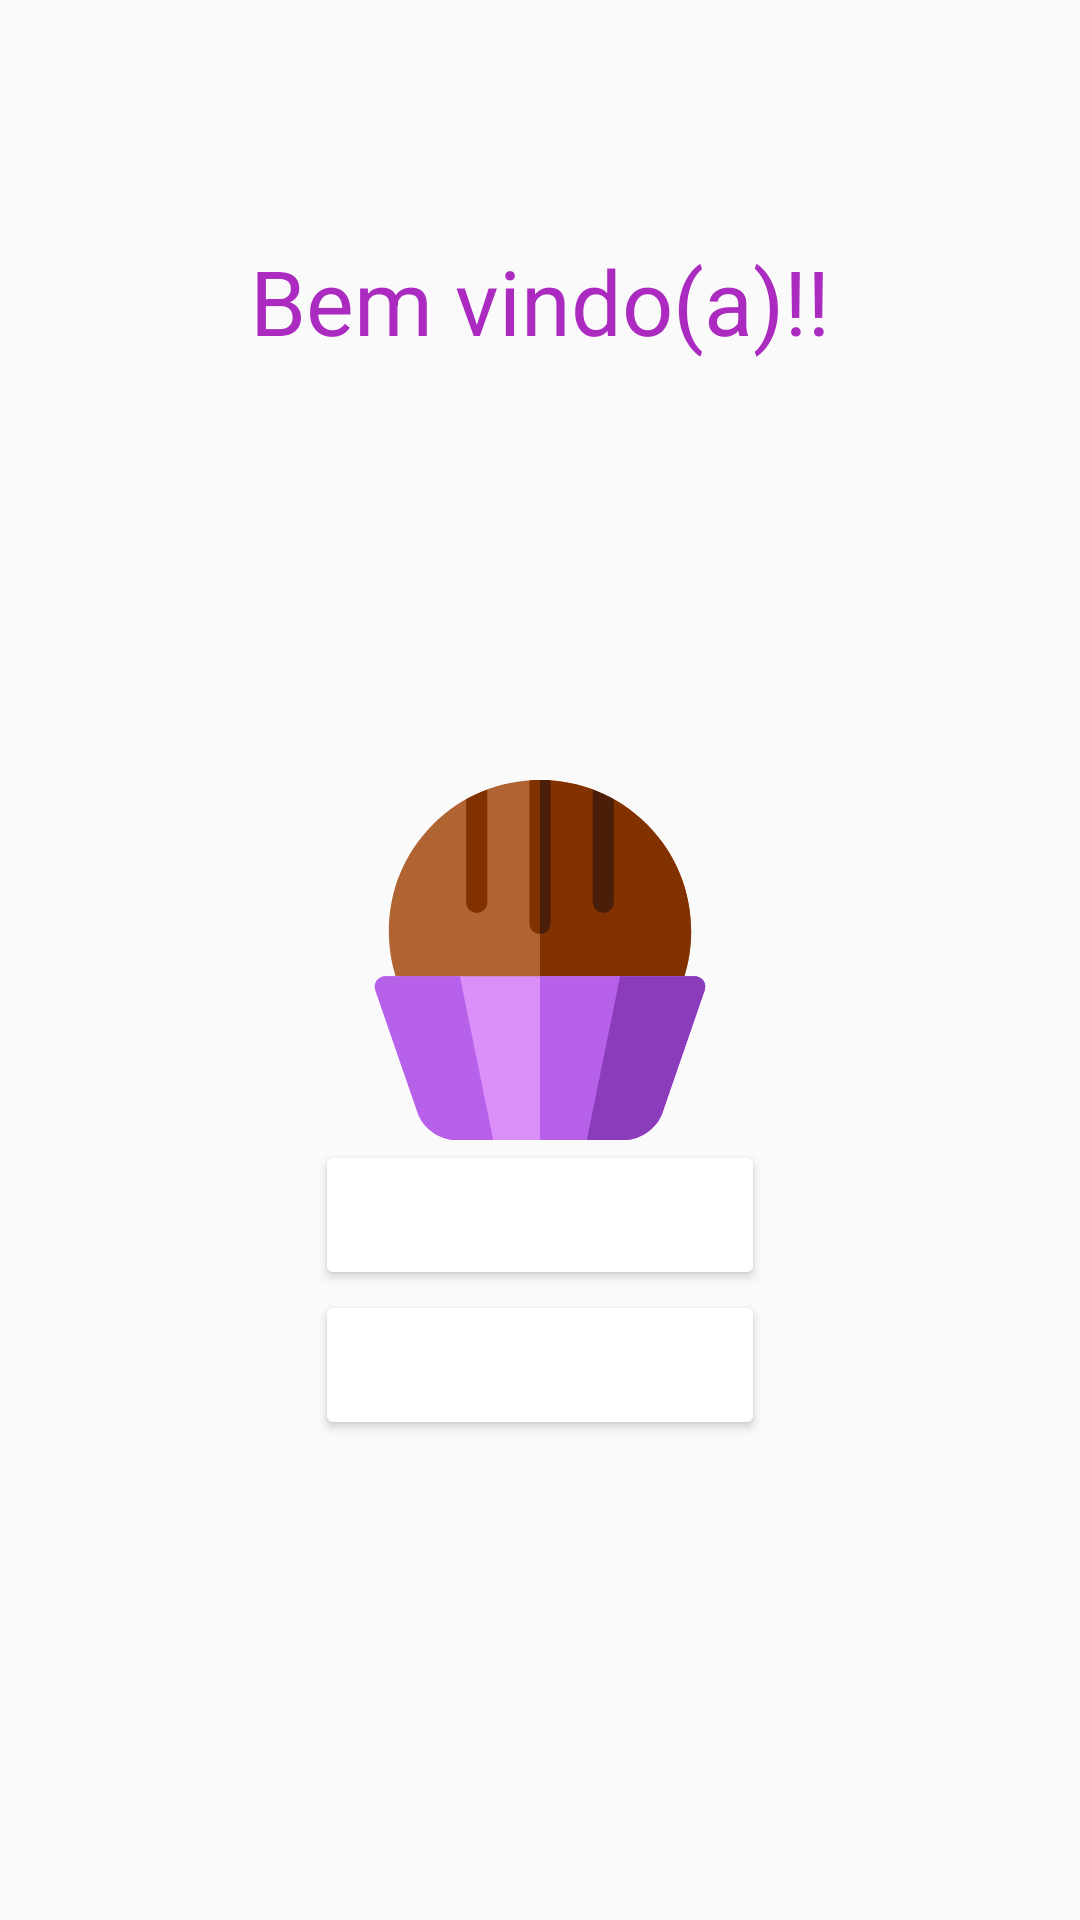

Where icons sit on this 1080px×1920px app screen, as (x1, y1, x2, y2):
brigadeirologin: (374, 780, 706, 1140)
